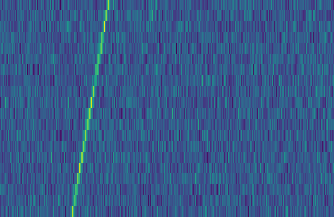signal: (65, 0, 112, 217)
